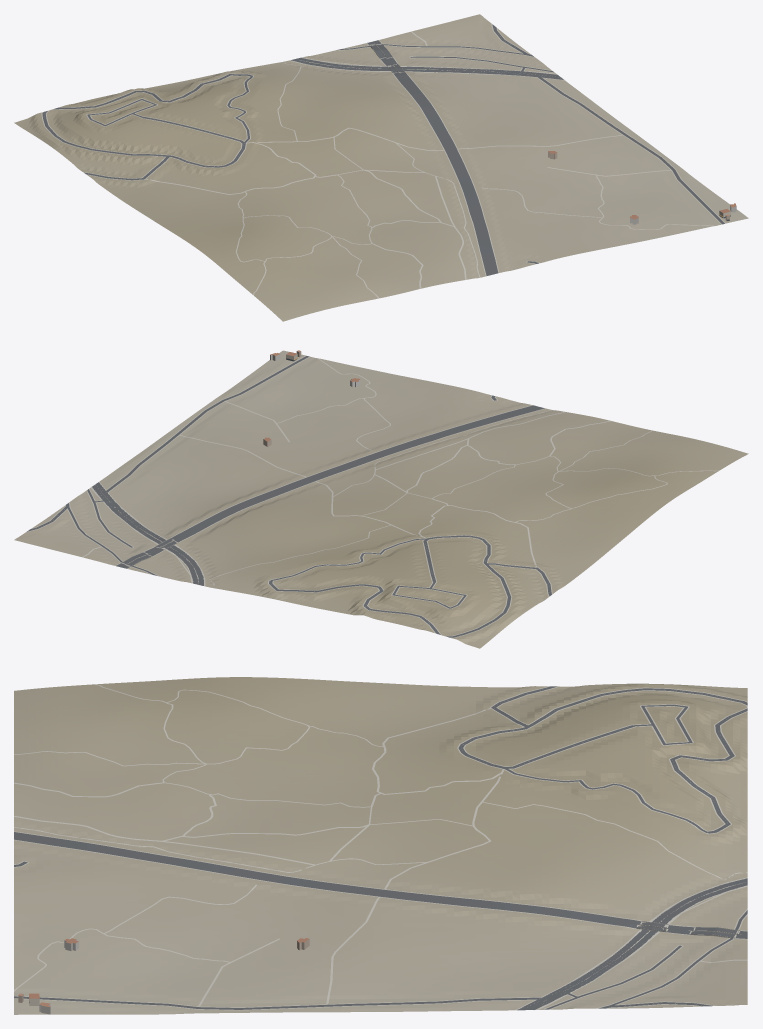
The picture shows the model from 3 angles, top to bottom: view 1: azimuth 30°, elevation 25°; view 2: azimuth 150°, elevation 25°; view 3: azimuth 270°, elevation 25°; orthographic projection. The views are drawn at different scales.
Visible parts, largest first — view 1: Ground, Sidewalk, Road; view 2: Ground, Sidewalk, Road; view 3: Ground, Sidewalk, Road.
Part boxes in pixels (x1,y1,x2,y2): Ground: (14, 14, 748, 321); Sidewalk: (41, 23, 725, 298); Road: (42, 24, 724, 275); Ground: (14, 350, 748, 648); Sidewalk: (25, 355, 718, 637); Road: (27, 356, 551, 637); Ground: (14, 677, 747, 1014); Sidewalk: (14, 684, 747, 1010); Road: (14, 686, 747, 1010).
Bounding box in the file's own units: 1003 × 56.76 × 1002.
